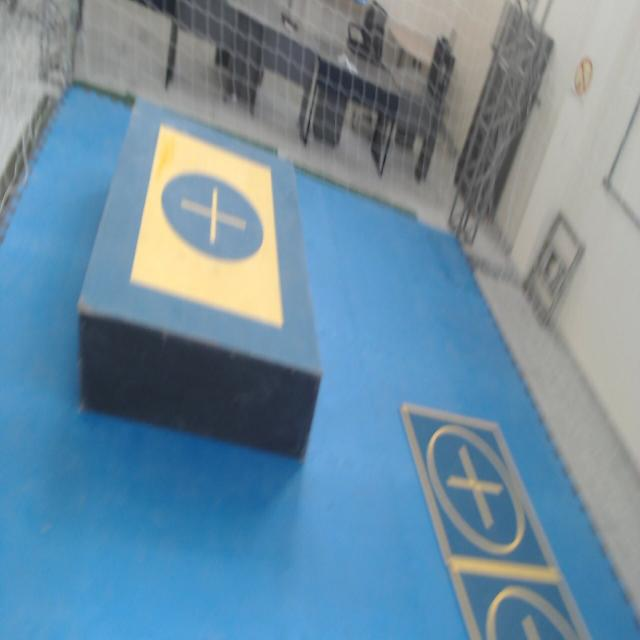base_inicio: (130, 122, 282, 326)
base_pouso: (399, 402, 563, 576), (451, 571, 594, 639)
